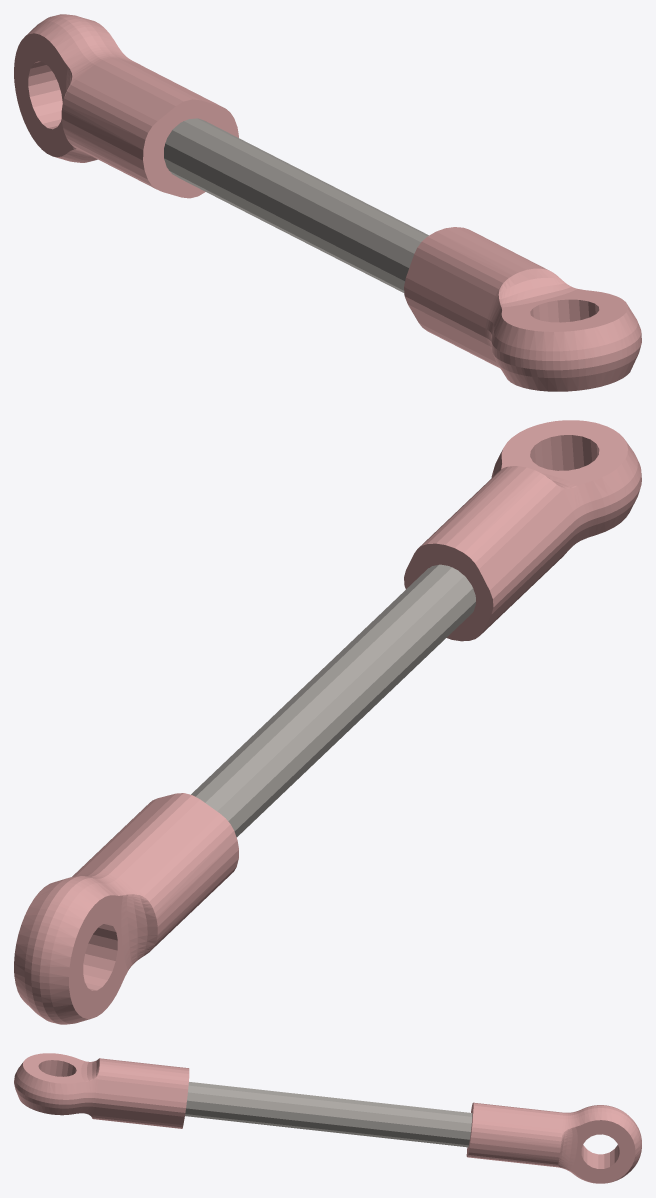
The model's file is right-diff-bar-connection.glb.
The picture shows the model from 3 angles, top to bottom: view 1: azimuth 30°, elevation 25°; view 2: azimuth 150°, elevation 25°; view 3: azimuth 270°, elevation 25°; orthographic projection. The views are drawn at different scales.
Visible parts, largest first — view 1: Right Diff Bar Connection; view 2: Right Diff Bar Connection; view 3: Right Diff Bar Connection.
Boxes of the visible parts, left/top/right/bottom form: Right Diff Bar Connection: left=14, top=14, right=641, bottom=391; Right Diff Bar Connection: left=14, top=420, right=641, bottom=1024; Right Diff Bar Connection: left=14, top=1053, right=641, bottom=1183.
Bounding box in the file's own units: 0.00948 × 0.0152 × 0.0718.
